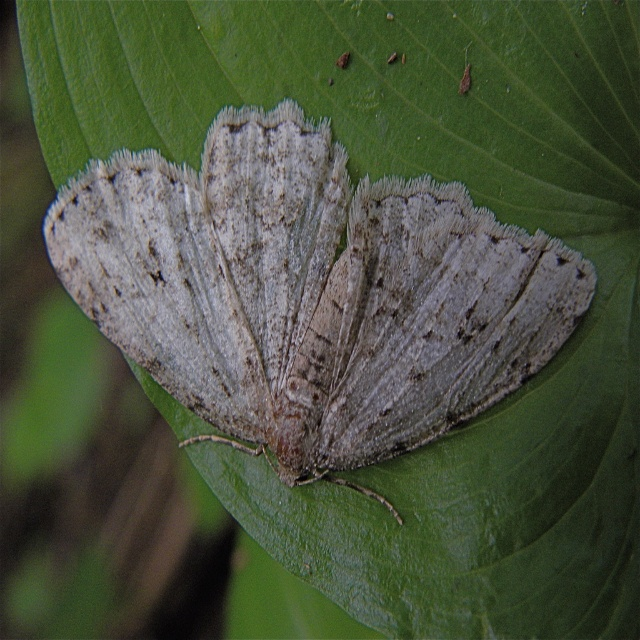Butterfly: (41, 96, 598, 526)
